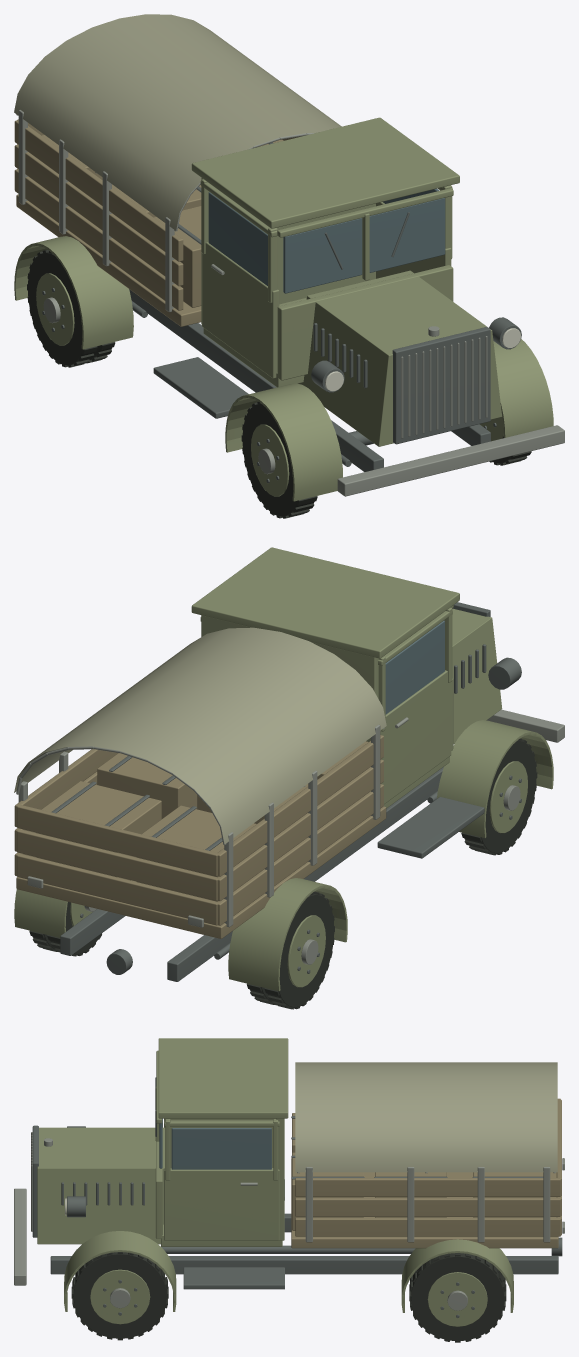
Rendered from polish_supply.glb.
3 views of the same model, one above another, from view 1: azimuth 30°, elevation 25°; view 2: azimuth 150°, elevation 25°; view 3: azimuth 270°, elevation 25° (orthographic). The views are drawn at different scales.
Visible parts, largest first — view 1: cab_door, canvas_hood, bonnet_vent, cargo_bed, side_window, bed_upright, tyre.001, tyre, pressed_steel_rim.002, pressed_steel_rim; view 2: cab_door, cargo_bed, canvas_hood, bonnet_vent, bed_upright, tyre.001, side_window, tyre, pressed_steel_rim, pressed_steel_rim.002, tyre.004; view 3: cab_door, canvas_hood, cargo_bed, bonnet_vent, tyre.004, side_window, tyre.003, bed_upright, pressed_steel_rim.006, pressed_steel_rim.004.
Part boxes in pixels (<box>): cab_door: <box>14,117,553,501</box>; canvas_hood: <box>14,14,341,230</box>; bonnet_vent: <box>129,142,521,471</box>; cargo_bed: <box>14,119,299,326</box>; side_window: <box>208,188,445,293</box>; bed_upright: <box>16,110,564,496</box>; tyre.001: <box>27,249,115,367</box>; tyre: <box>241,401,317,518</box>; pressed_steel_rim.002: <box>36,273,74,345</box>; pressed_steel_rim: <box>251,424,289,496</box>; cab_door: <box>14,547,553,991</box>; cargo_bed: <box>14,735,386,938</box>; canvas_hood: <box>14,627,386,843</box>; bonnet_vent: <box>51,602,521,981</box>; bed_upright: <box>16,709,564,927</box>; tyre.001: <box>246,891,334,1009</box>; side_window: <box>385,620,444,714</box>; tyre: <box>461,738,537,855</box>; pressed_steel_rim: <box>489,761,527,833</box>; pressed_steel_rim.002: <box>287,915,325,987</box>; tyre.004: <box>29,902,101,956</box>; cab_door: <box>37,1038,513,1312</box>; canvas_hood: <box>295,1062,557,1172</box>; cargo_bed: <box>291,1098,561,1248</box>; bonnet_vent: <box>32,1077,562,1289</box>; tyre.004: <box>409,1253,506,1342</box>; side_window: <box>159,1118,271,1169</box>; tyre.003: <box>71,1252,168,1340</box>; bed_upright: <box>14,1132,564,1285</box>; pressed_steel_rim.006: <box>427,1272,487,1326</box>; pressed_steel_rim.004: <box>90,1269,150,1324</box>.
Size of the model in its own units: 1.61 by 1.54 by 3.53.
